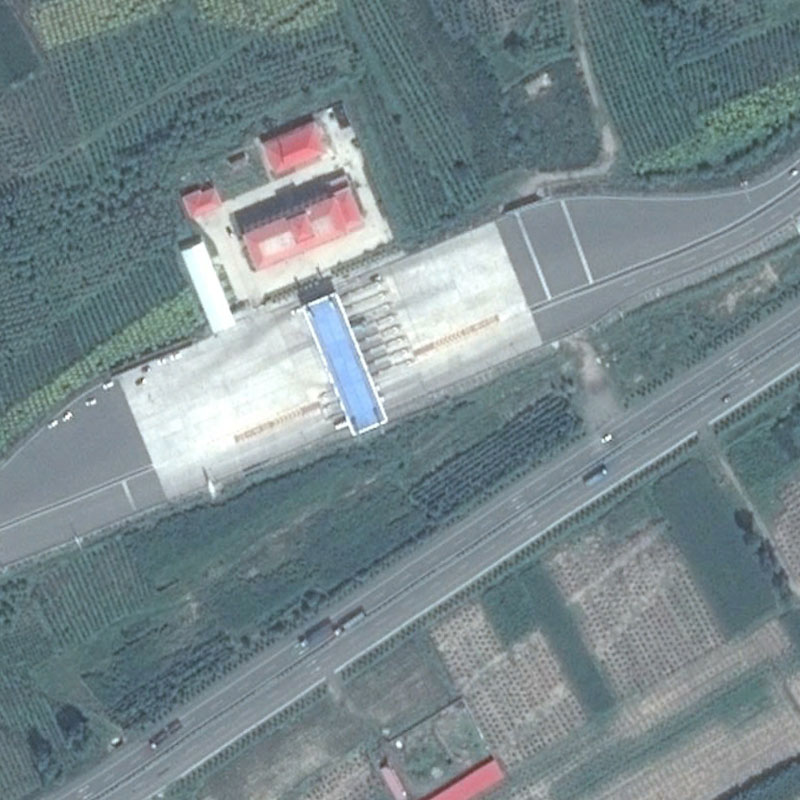Expressway-toll-station: (301, 290, 389, 437)
vehicle: (333, 610, 367, 637), (300, 623, 333, 648), (585, 468, 607, 489), (150, 731, 168, 750), (334, 420, 350, 431)
